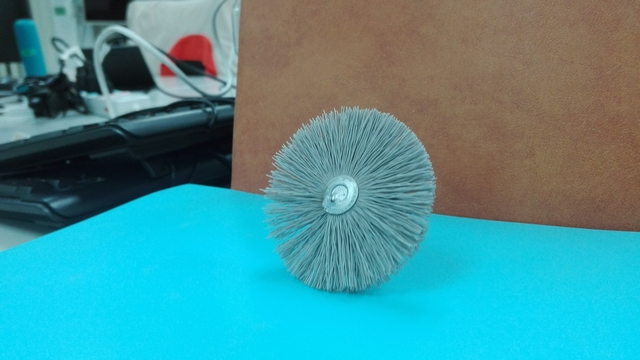TOOL: (205, 87, 521, 319), (192, 46, 443, 320), (234, 108, 481, 309)
